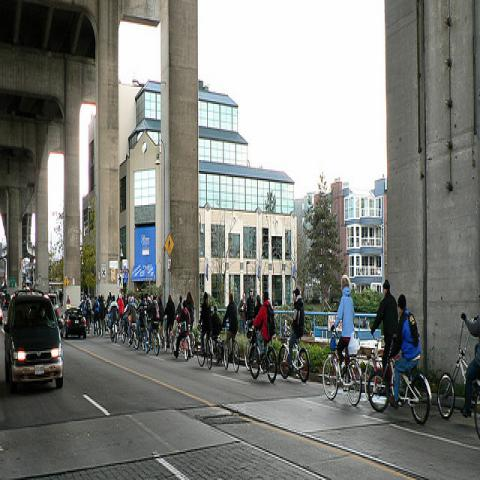car: (0, 290, 87, 392), (46, 292, 60, 324)
